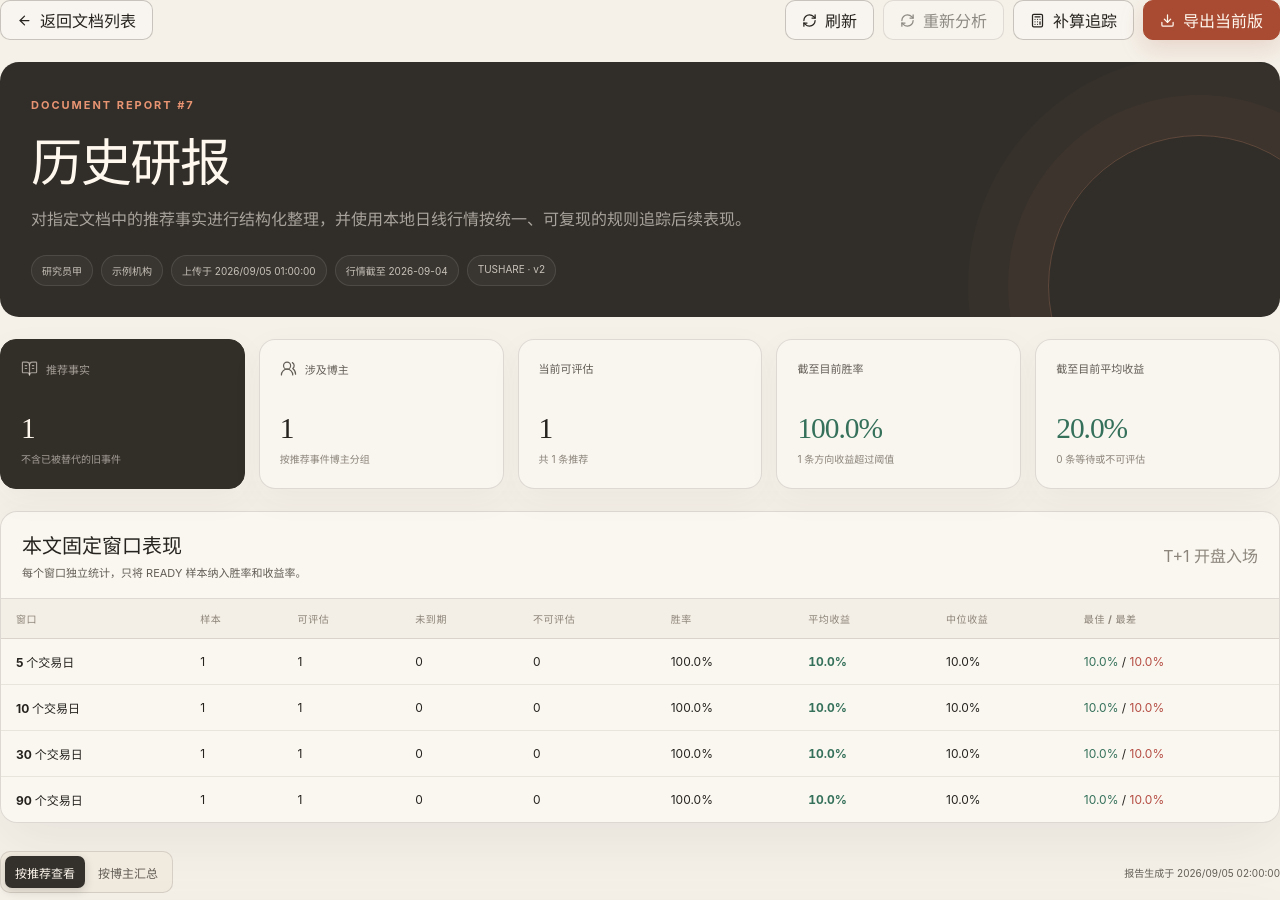
Test case: DocumentReportDetailView › does not print stale data when the pre-export refresh fails
Click the button "导出当前版": point(1212, 20) [1143,0,1279,40]
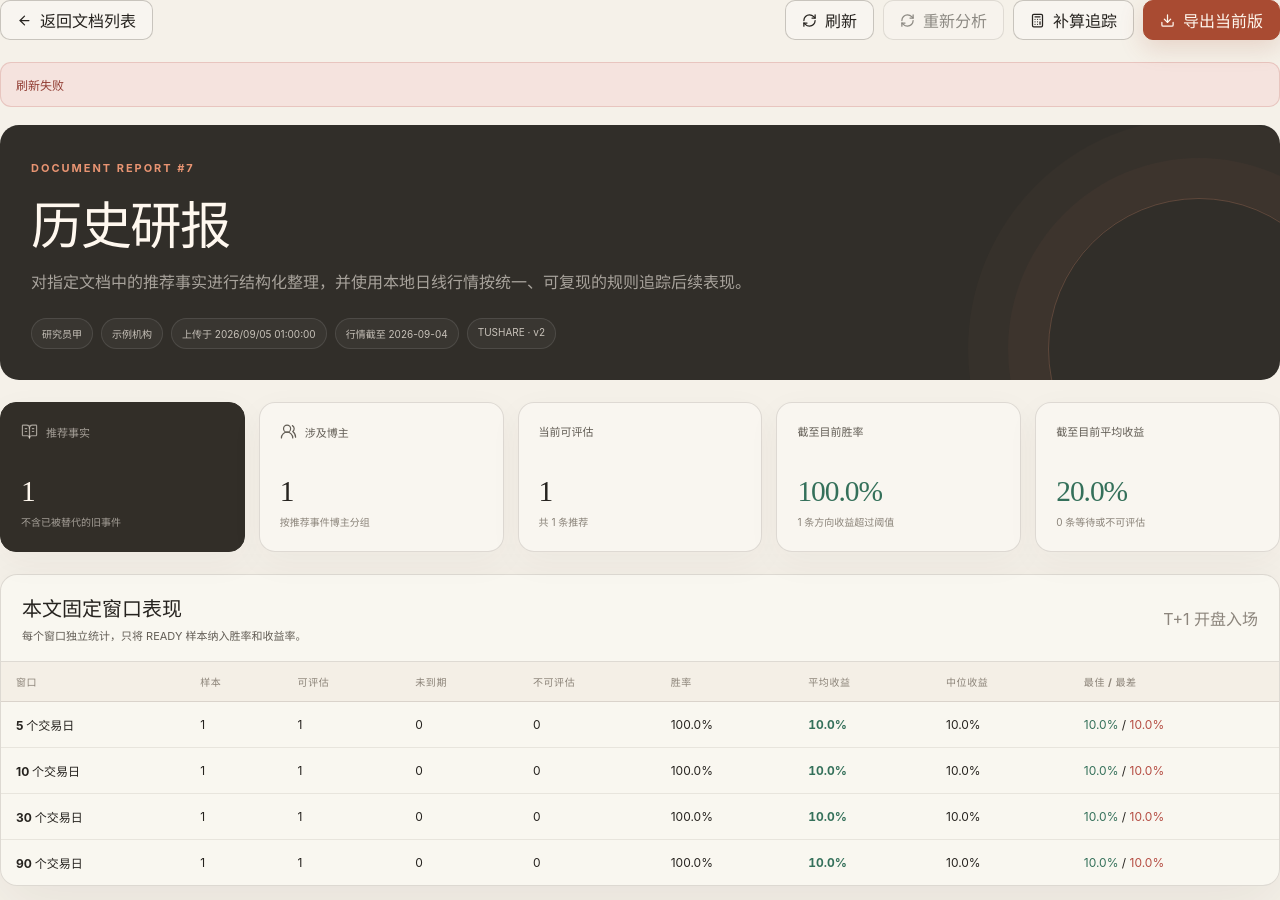
Expected: the text "刷新失败" is shown, [0,62,1279,107]
